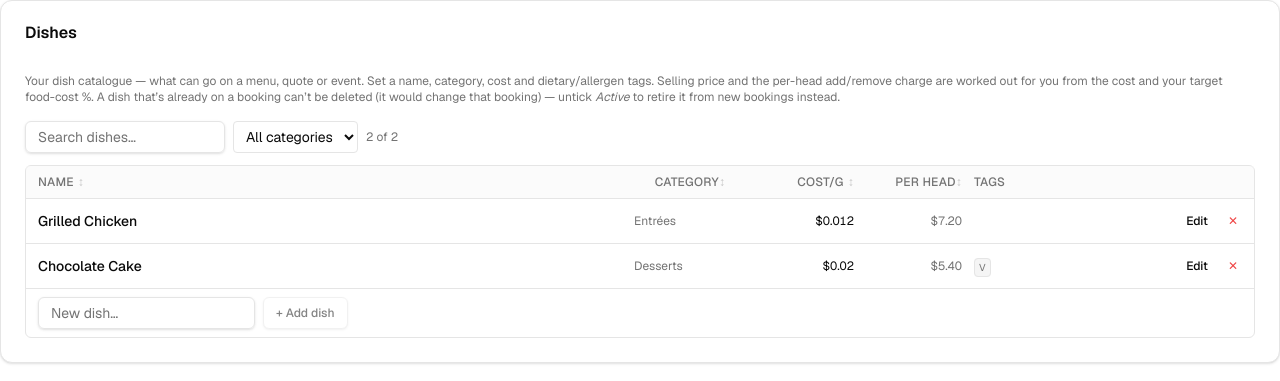
it: DishesSettings › filters by search and by category
In the field with placeholder "Search dishes…": (125, 137) [25,121,225,153], type "cake"
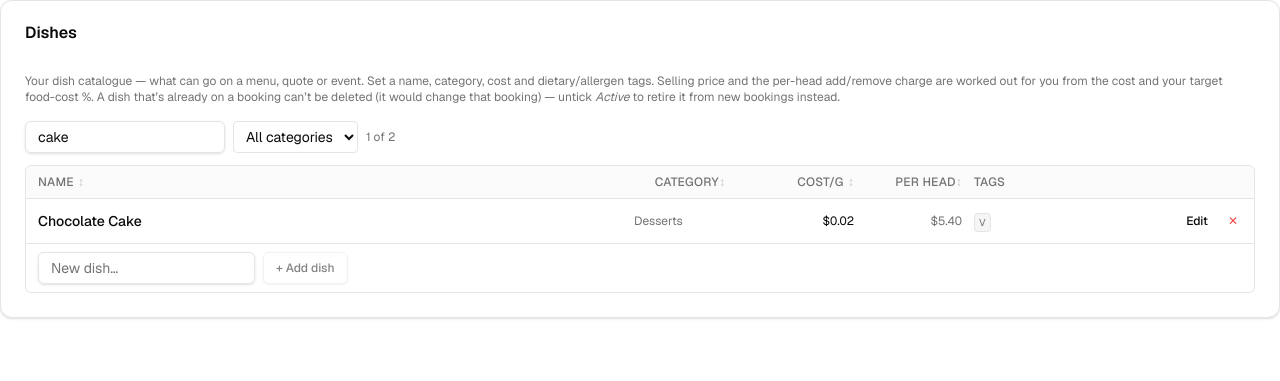
Check: the button "Chocolate Cake" is shown, box [38,211,622,231]
Check: the button "Grilled Chicken" is gone
Clear the field with placeholder "Search dishes…": (125, 137) [25,121,225,153]
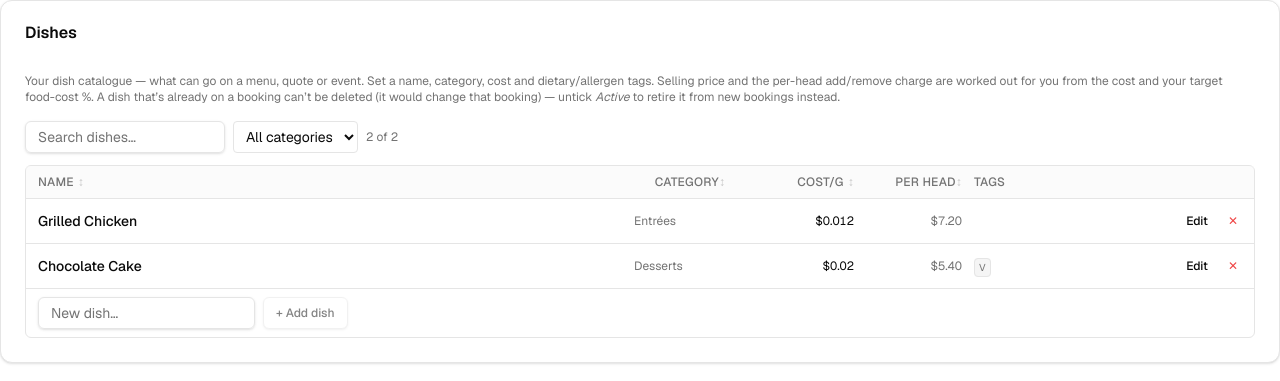
Select "Entrées" in the dropdown named "Filter by category": (296, 137) [233,121,358,153]
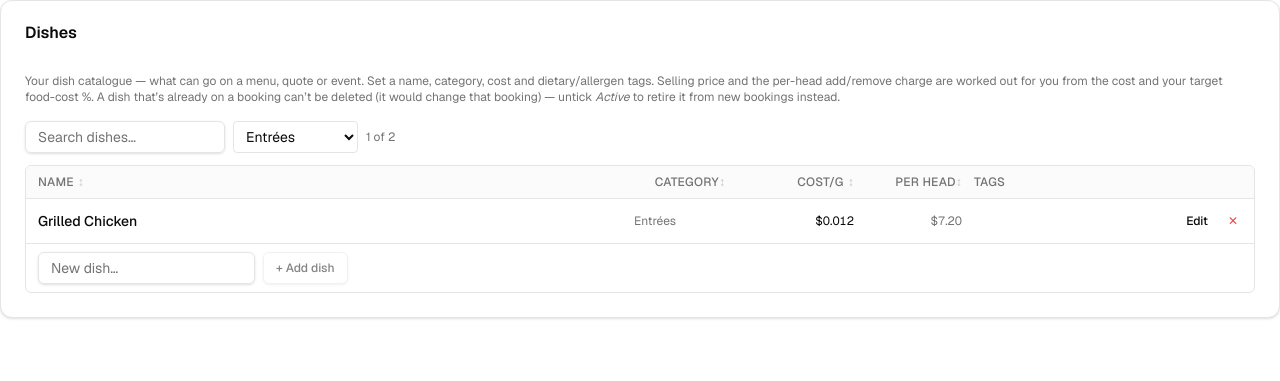
Check: the button "Grilled Chicken" is shown, box [38,211,622,231]
Check: the button "Chocolate Cake" is gone
